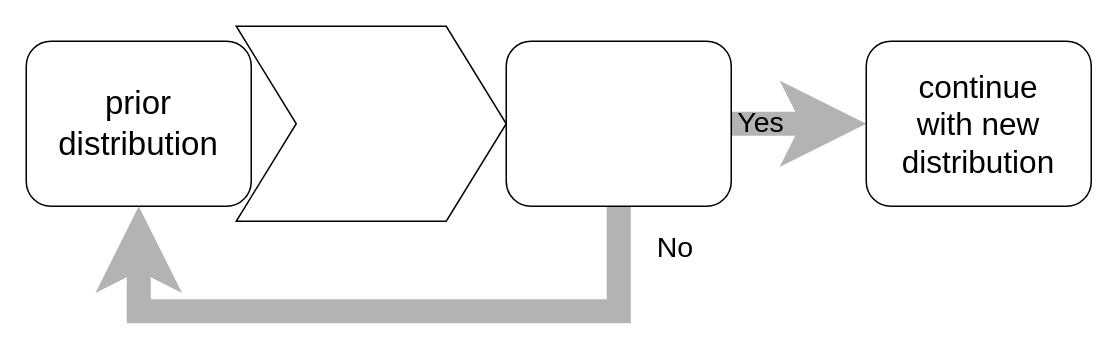
This 1118x362 diagram has some shape labels left out. Each missing label, with the centre of its shape:
"Perturb old state/ move and calculate the probability of the new state" belongs at point 370,123.
"Test if the new state is better than the old one" belongs at point 618,123.
